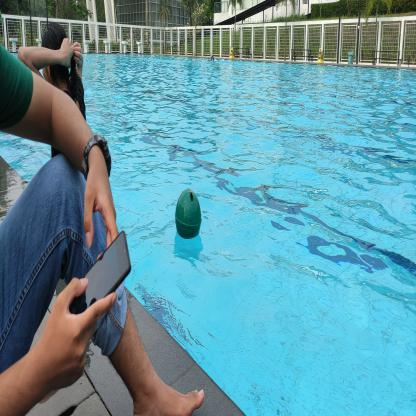green_buoy: (174, 187, 204, 240)
